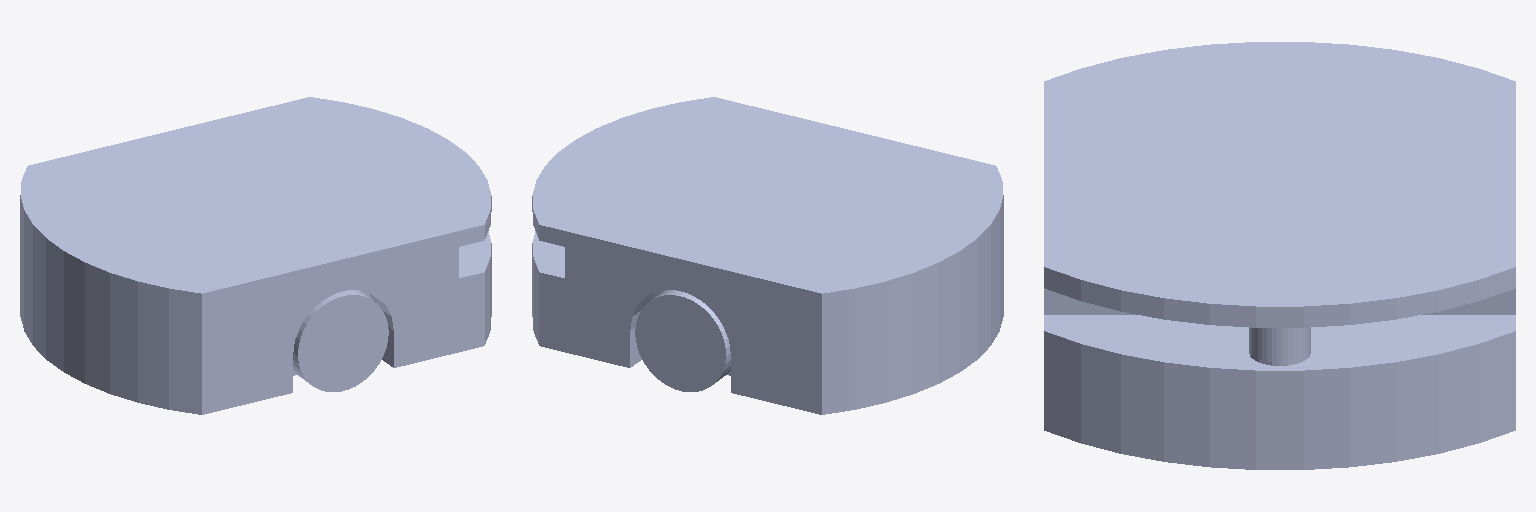
URDF robot description (amr):
<!-- This URDF was automatically created by SolidWorks to URDF Exporter! Originally created by [author] ([email redacted]) 
     Commit Version: 1.6.0-4-g7f85cfe  Build Version: 1.6.7995.38578
     For more information, please see http://wiki.ros.org/sw_urdf_exporter -->
<robot
  name="amr">
  <link
    name="base_link">
    <inertial>
      <origin
        xyz="-0.015548 -4.56E-17 0.0"
        rpy="0 0 0" />
      <mass
        value="200" />
      <inertia
        ixx="21.727"
        ixy="-2.0472E-15"
        ixz="0.62862"
        iyy="34.655"
        iyz="7.9612E-16"
        izz="49.95" />
    </inertial>
    <visual>
      <origin
        xyz="0 0 0"
        rpy="0 0 0" />
      <geometry>
        <mesh
          filename="package://amr/meshes/base_link.STL" />
      </geometry>
      <material
        name="">
        <color
          rgba="0.79216 0.81961 0.93333 1" />
      </material>
    </visual>
    <collision>
      <origin
        xyz="0 0 0"
        rpy="0 0 0" />
      <geometry>
        <box>
          <size>0.8 0.6 0.3</size>
        </box>
      </geometry>
    </collision>
  </link>
  <gazebo reference="base_link">
    <static>true</static>
  </gazebo>
  <gazebo>
    <plugin name="differential_drive_controller" filename="libgazebo_ros_diff_drive.so">
      <ros>
        <namespace>/</namespace>
      </ros>
      <update_rate>30</update_rate>
      <left_joint>left_wheel_joint</left_joint>
      <right_joint>right_wheel_joint</right_joint>
      <wheel_separation>0.6</wheel_separation>
      <wheel_diameter>0.14</wheel_diameter>
      <max_wheel_torque>20</max_wheel_torque>
      <max_wheel_acceleration>1.0</max_wheel_acceleration>
      <publish_odom>true</publish_odom>
      <publish_odom_tf>true</publish_odom_tf>
      <publish_wheel_tf>true</publish_wheel_tf>
      <odometry_frame>odom</odometry_frame>
      <robot_base_frame>base_link</robot_base_frame>
      <odometry_source>2</odometry_source>
    </plugin>
  </gazebo>
  <gazebo>
    <plugin name="joint_state_publisher" filename="libgazebo_ros_joint_state_publisher.so">
      <ros>
        <namespace>/</namespace>
      </ros>
      <joint_name>left_wheel_joint</joint_name>
      <joint_name>right_wheel_joint</joint_name>
      <update_rate>30</update_rate>
    </plugin>
  </gazebo>
  <link
    name="left_wheel">
    <inertial>
      <origin
        xyz="0 0 0.025"
        rpy="0 0 0" />
      <mass
        value="10" />
      <inertia
        ixx="0.022164"
        ixy="1.7347E-18"
        ixz="-2.4651E-19"
        iyy="0.022164"
        iyz="6.9319E-19"
        izz="0.040193" />
    </inertial>
    <visual>
      <origin
        xyz="0 0 0"
        rpy="0 0 0" />
      <geometry>
        <mesh
          filename="package://amr/meshes/left_wheel.STL" />
      </geometry>
      <material
        name="">
        <color
          rgba="0.79216 0.81961 0.93333 1" />
      </material>
    </visual>
    <collision>
      <origin
        xyz="0 0 0"
        rpy="0 0 0" />
      <geometry>
        <cylinder>
          <radius>0.07</radius>
          <length>0.05</length>
        </cylinder>
      </geometry>
    </collision>
  </link>
  <joint
    name="left_wheel_joint"
    type="continuous">
    <origin
      xyz="0 0.3 0.07"
      rpy="1.5708 -0.62076 0" />
    <parent
      link="base_link" />
    <child
      link="left_wheel" />
    <axis
      xyz="0 0 1" />
  </joint>
  <link
    name="right_wheel">
    <inertial>
      <origin
        xyz="0 -6.9389E-18 0.025"
        rpy="0 0 0" />
      <mass
        value="10" />
      <inertia
        ixx="0.022164"
        ixy="1.7347E-18"
        ixz="5.2088E-20"
        iyy="0.022164"
        iyz="-1.2703E-18"
        izz="0.040193" />
    </inertial>
    <visual>
      <origin
        xyz="0 0 0"
        rpy="0 0 0" />
      <geometry>
        <mesh
          filename="package://amr/meshes/right_wheel.STL" />
      </geometry>
      <material
        name="">
        <color
          rgba="0.79216 0.81961 0.93333 1" />
      </material>
    </visual>
    <collision>
      <origin
        xyz="0 0 0"
        rpy="0 0 0" />
      <geometry>
        <cylinder>
          <radius>0.07</radius>
          <length>0.05</length>
        </cylinder>
      </geometry>
    </collision>
  </link>
  <joint
    name="right_wheel_joint"
    type="continuous">
    <origin
      xyz="0 -0.3 0.07"
      rpy="-1.5708 -0.6019 0" />
    <parent
      link="base_link" />
    <child
      link="right_wheel" />
    <axis
      xyz="0 0 1" />
  </joint>
  <link
    name="lidar">
    <inertial>
      <origin
        xyz="0 0 0.025"
        rpy="0 0 0" />
      <mass
        value="0.01" />
      <inertia
        ixx="0.0011925"
        ixy="0"
        ixz="-7.0288E-36"
        iyy="0.0011925"
        iyz="-3.7883E-36"
        izz="0.0015683" />
    </inertial>
    <visual>
      <origin
        xyz="0 0 0"
        rpy="0 0 0" />
      <geometry>
        <mesh
          filename="package://amr/meshes/lidar.STL" />
      </geometry>
      <material
        name="">
        <color
          rgba="0.79216 0.81961 0.93333 1" />
      </material>
    </visual>
    <collision>
      <origin
        xyz="0 0 0"
        rpy="0 0 0" />
      <geometry>
        <mesh
          filename="package://amr/meshes/lidar.STL" />
      </geometry>
    </collision>
  </link>
  <gazebo reference="lidar">
    <sensor type="ray" name="lidar_sensor">
      <pose>0 0 0 0 0 0</pose>
      <visualize>true</visualize>
      <update_rate>40</update_rate>
      <ray>
        <scan>
          <horizontal>
            <samples>720</samples>
            <resolution>1</resolution>
            <min_angle>-3.14159</min_angle>
            <max_angle>3.14159</max_angle>
          </horizontal>
        </scan>
        <range>
          <min>0.1</min>
          <max>30.0</max>
          <resolution>0.01</resolution>
        </range>
        <noise>
          <type>gaussian</type>
          <mean>0.0</mean>
          <stddev>0.01</stddev>
        </noise>
      </ray>
      <plugin name="gazebo_ros_lidar_controller" filename="libgazebo_ros_ray_sensor.so">
        <ros>
          <namespace>/</namespace>
          <remapping>~/out:=scan</remapping>
        </ros>
        <output_type>sensor_msgs/LaserScan</output_type>
        <frame_name>lidar</frame_name>
      </plugin>
    </sensor>
  </gazebo>
  <joint
    name="lidar_joint"
    type="fixed">
    <origin
      xyz="0.34586 0 0.145"
      rpy="0 0 0" />
    <parent
      link="base_link" />
    <child
      link="lidar" />
    <axis
      xyz="0 0 0" />
  </joint>
</robot>

--- Facts derived from the render (not from the file) ---
The picture shows the robot from 3 angles, left to right: view 1: azimuth 30°, elevation 25°; view 2: azimuth 150°, elevation 25°; view 3: azimuth 270°, elevation 25°; orthographic projection.
Robot: amr — 4 links, 3 joints (2 continuous, 1 fixed); root link base_link; default pose: every joint at zero.
Links seen in each view (by area): view 1: base_link, right_wheel; view 2: base_link, left_wheel; view 3: base_link, lidar.
Boxes of the visible links, x1,y1,x2,y2 form: base_link: (20,97,491,414); right_wheel: (293,290,388,391); base_link: (532,97,1003,414); left_wheel: (635,290,730,391); base_link: (1044,42,1515,469); lidar: (1249,327,1310,362).
Bounding box of the posed robot: 0.7979 × 0.6 × 0.2499 m (x, y, z).
4 mesh visuals loaded from 4 distinct referenced files (4 binary STL).
